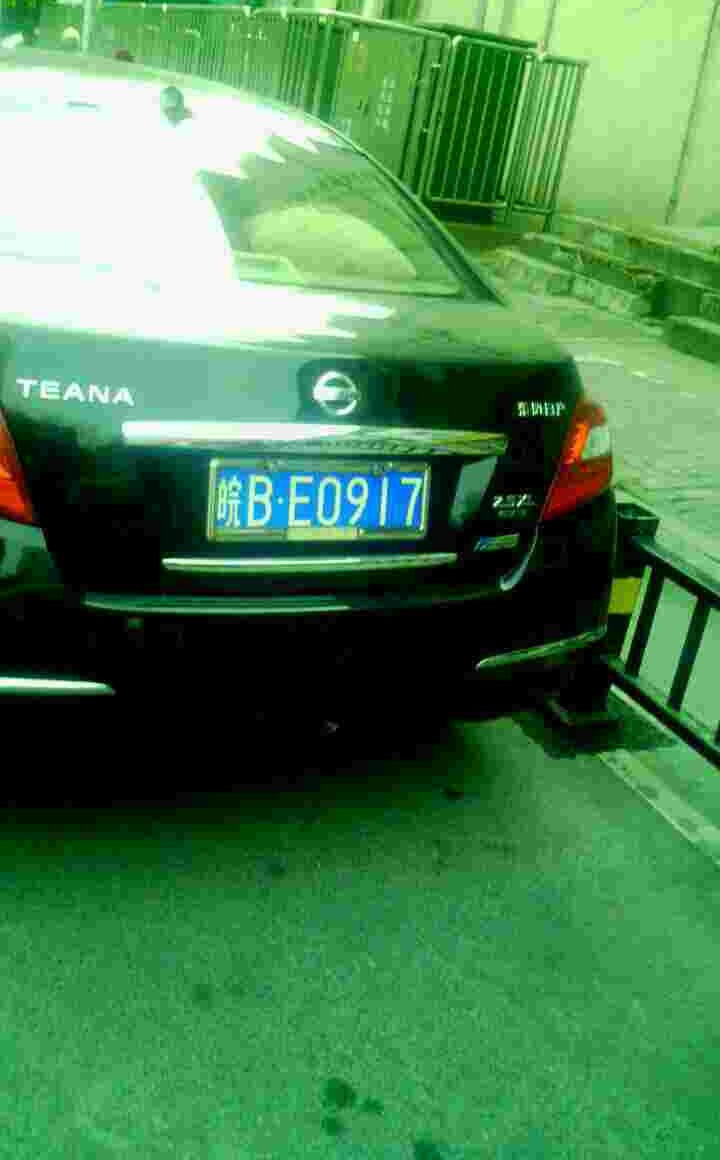license_plate: (216, 464, 420, 526)
